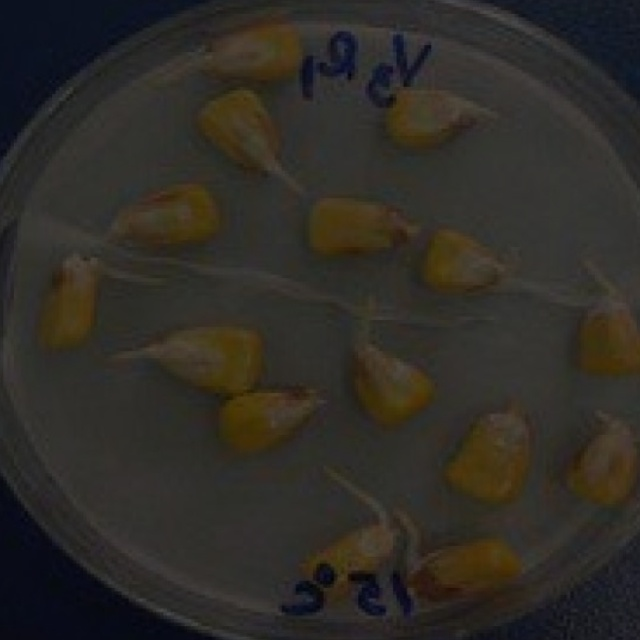Zea mays: (141, 322, 272, 400), (439, 409, 536, 514), (195, 84, 290, 181), (107, 182, 227, 255), (556, 413, 639, 516), (346, 343, 440, 431), (192, 19, 306, 85), (298, 524, 400, 597), (385, 89, 496, 156), (303, 198, 422, 260), (416, 229, 508, 309), (30, 259, 105, 357), (213, 391, 320, 458), (569, 290, 639, 383), (410, 543, 523, 599)
